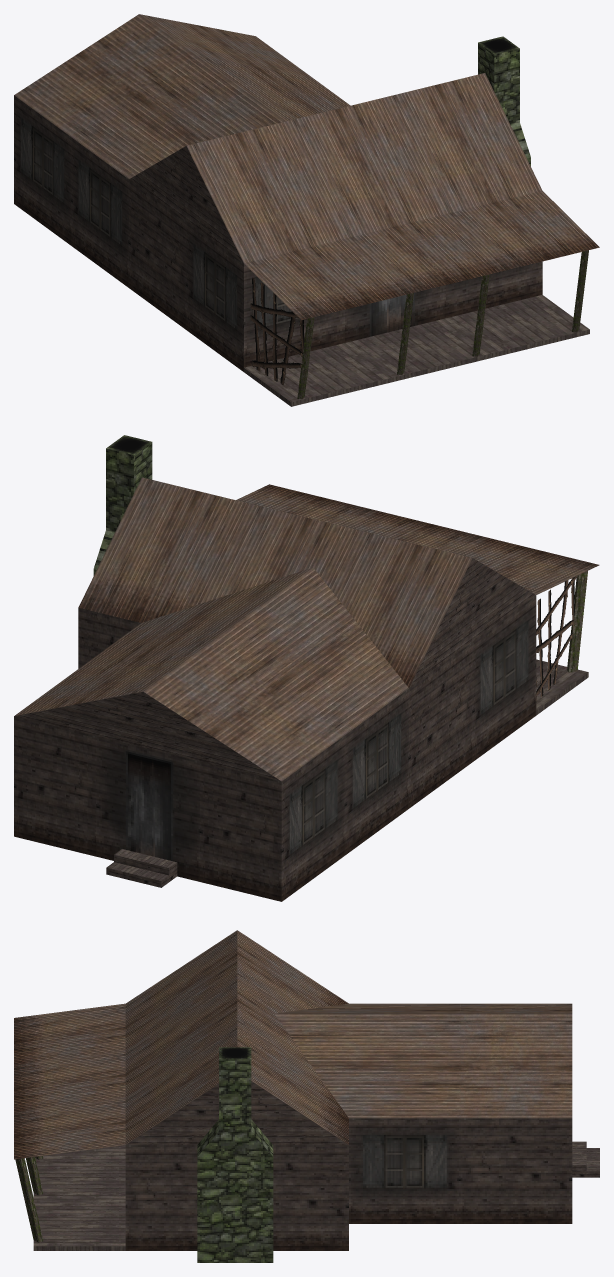
Rendered from EvilDeadCabin.fbx.
3 views of the same model, one above another, from view 1: azimuth 30°, elevation 25°; view 2: azimuth 150°, elevation 25°; view 3: azimuth 270°, elevation 25° (orthographic). The views are drawn at different scales.
Visible parts, largest first — view 1: Plane; view 2: Plane; view 3: Plane.
Part boxes in pixels (x1=…): Plane: x1=14, y1=14, x2=599, y2=406; Plane: x1=14, y1=435, x2=599, y2=901; Plane: x1=14, y1=930, x2=599, y2=1262.
Size of the model in its own units: 651 by 402 by 1049.
